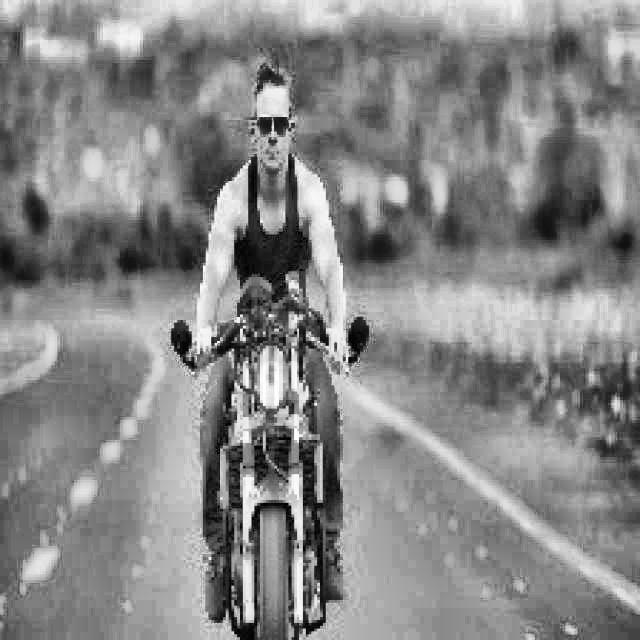motorcycle: (156, 276, 404, 640)
